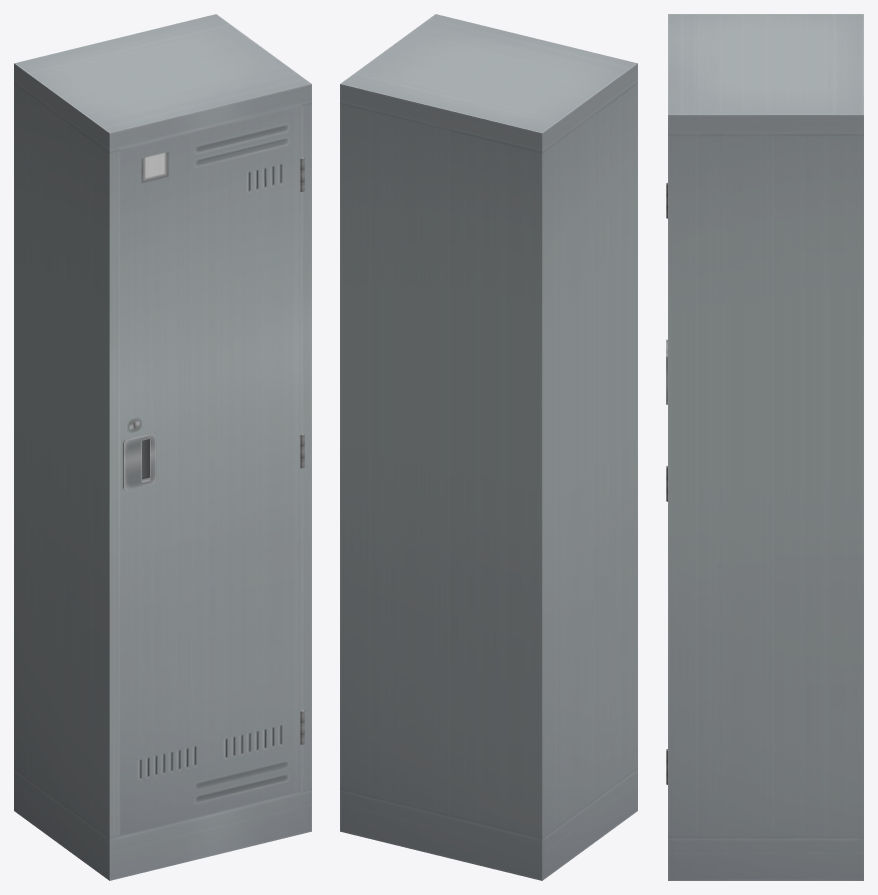
Rendered from SHW_Locker_01_01.fbx.
The picture shows the model from 3 angles, left to right: view 1: azimuth 30°, elevation 25°; view 2: azimuth 150°, elevation 25°; view 3: azimuth 270°, elevation 25°; orthographic projection. The views are drawn at different scales.
Parts seen in each view (by area): view 1: shw_locker_door_01, shw_locker_01; view 2: shw_locker_01; view 3: shw_locker_01.
Part boxes in pixels (box(x1,y1,x2,y2)): shw_locker_door_01: box(119, 105, 304, 836); shw_locker_01: box(14, 14, 311, 880); shw_locker_01: box(340, 14, 637, 880); shw_locker_01: box(668, 14, 863, 880).
Size of the model in its own units: 50.82 by 180 by 41.99.
